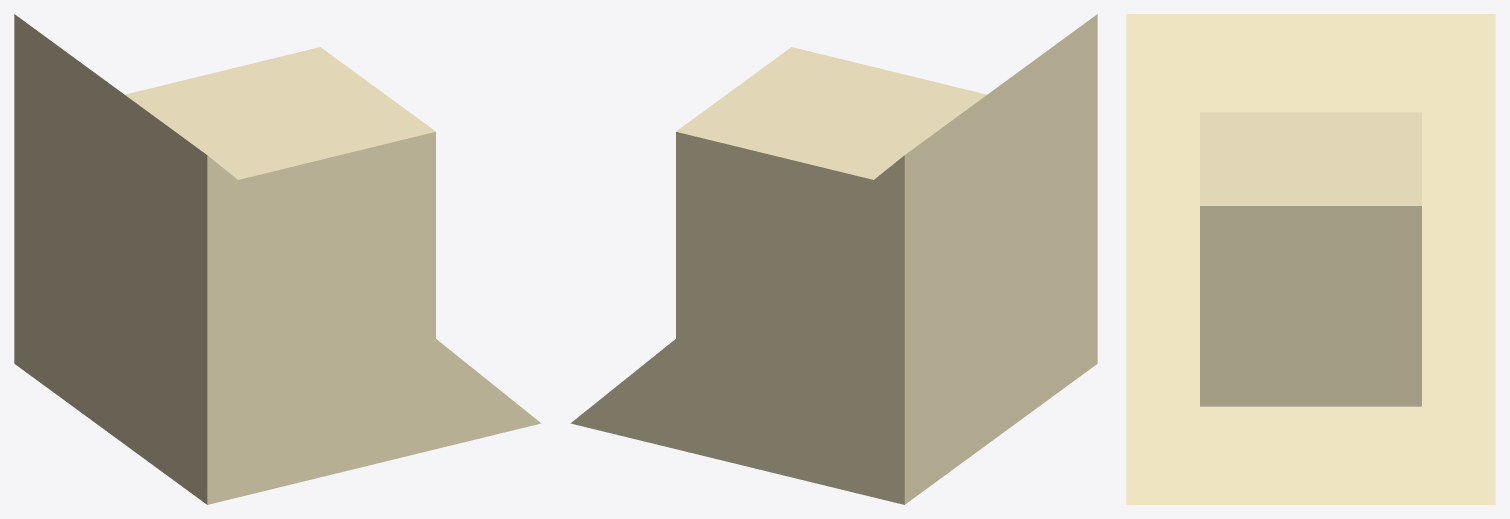
3 renders of one model, left to right at view 1: azimuth 30°, elevation 25°; view 2: azimuth 150°, elevation 25°; view 3: azimuth 270°, elevation 25°, orthographic. The views are drawn at different scales.
Parts seen in each view (by area): view 1: Component#1, Component#2; view 2: Component#1, Component#2; view 3: Component#1, Component#2.
Part boxes in pixels (x1=…): Component#1: x1=14, y1=14, x2=541, y2=504; Component#2: x1=125, y1=47, x2=435, y2=338; Component#1: x1=570, y1=14, x2=1097, y2=504; Component#2: x1=676, y1=47, x2=986, y2=338; Component#1: x1=1126, y1=14, x2=1495, y2=504; Component#2: x1=1200, y1=112, x2=1421, y2=406.
Size of the model in its own units: 50 by 50 by 50.
